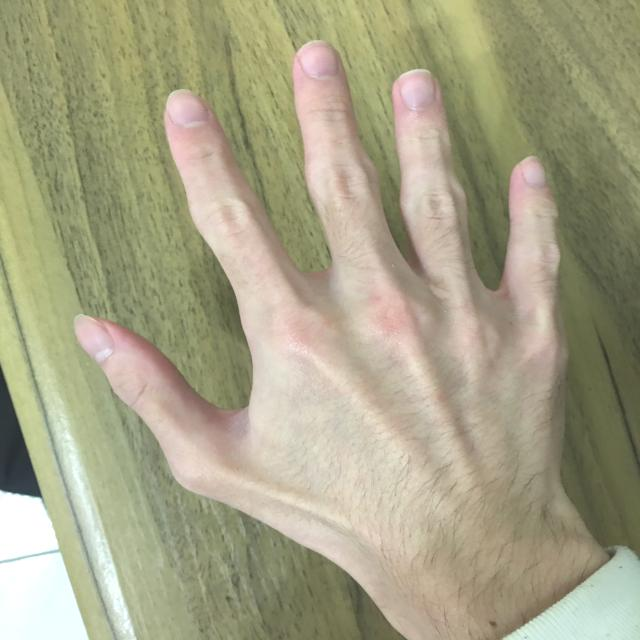no_glove: (48, 21, 594, 603)
